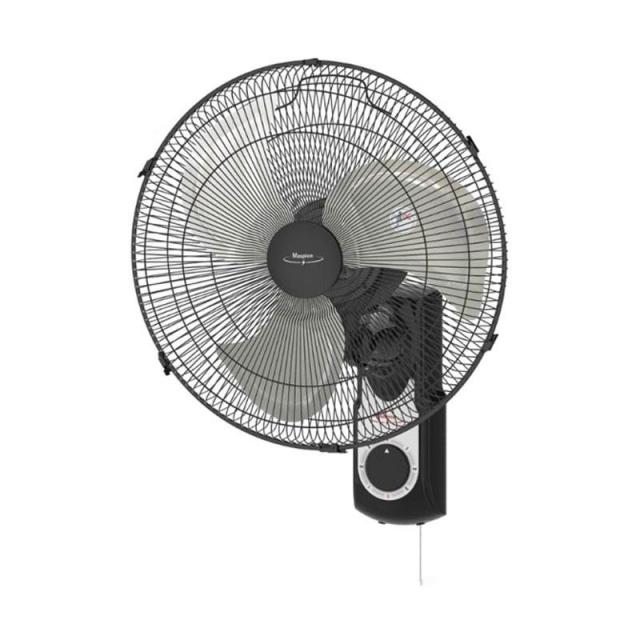fan: (97, 45, 583, 597)
